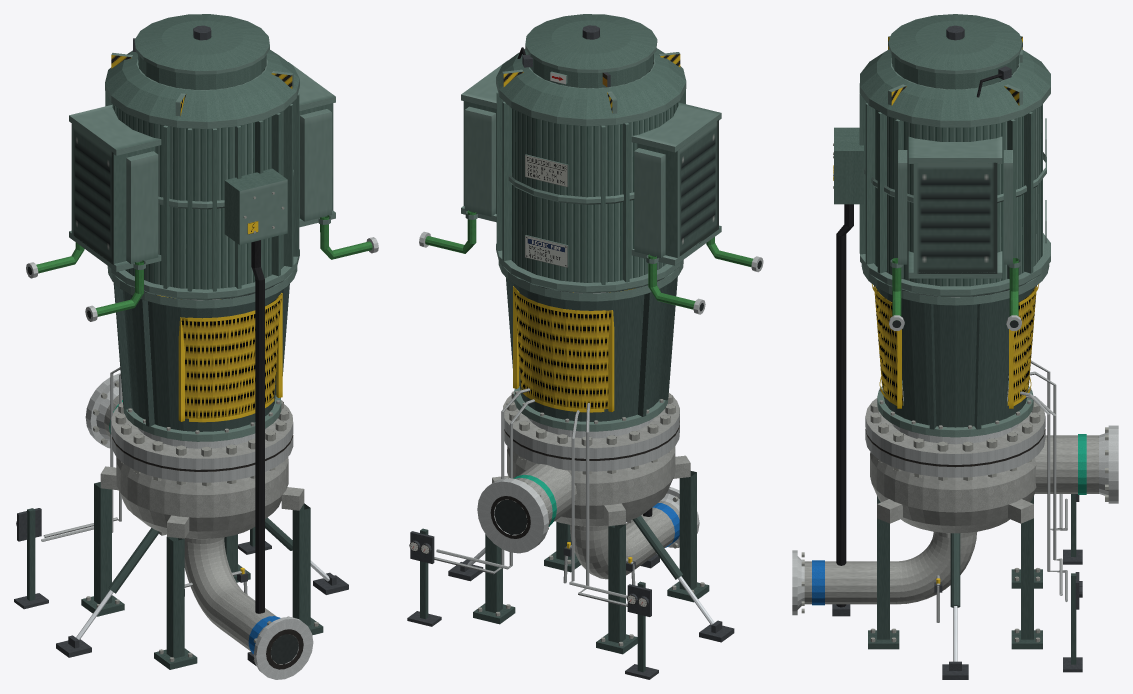
Rendered from inventory.obj.
The picture shows the model from 3 angles, left to right: view 1: azimuth 30°, elevation 25°; view 2: azimuth 150°, elevation 25°; view 3: azimuth 270°, elevation 25°; orthographic projection. The views are drawn at different scales.
Bounding box in the file's own units: 0.4564 × 0.9 × 0.4564.
